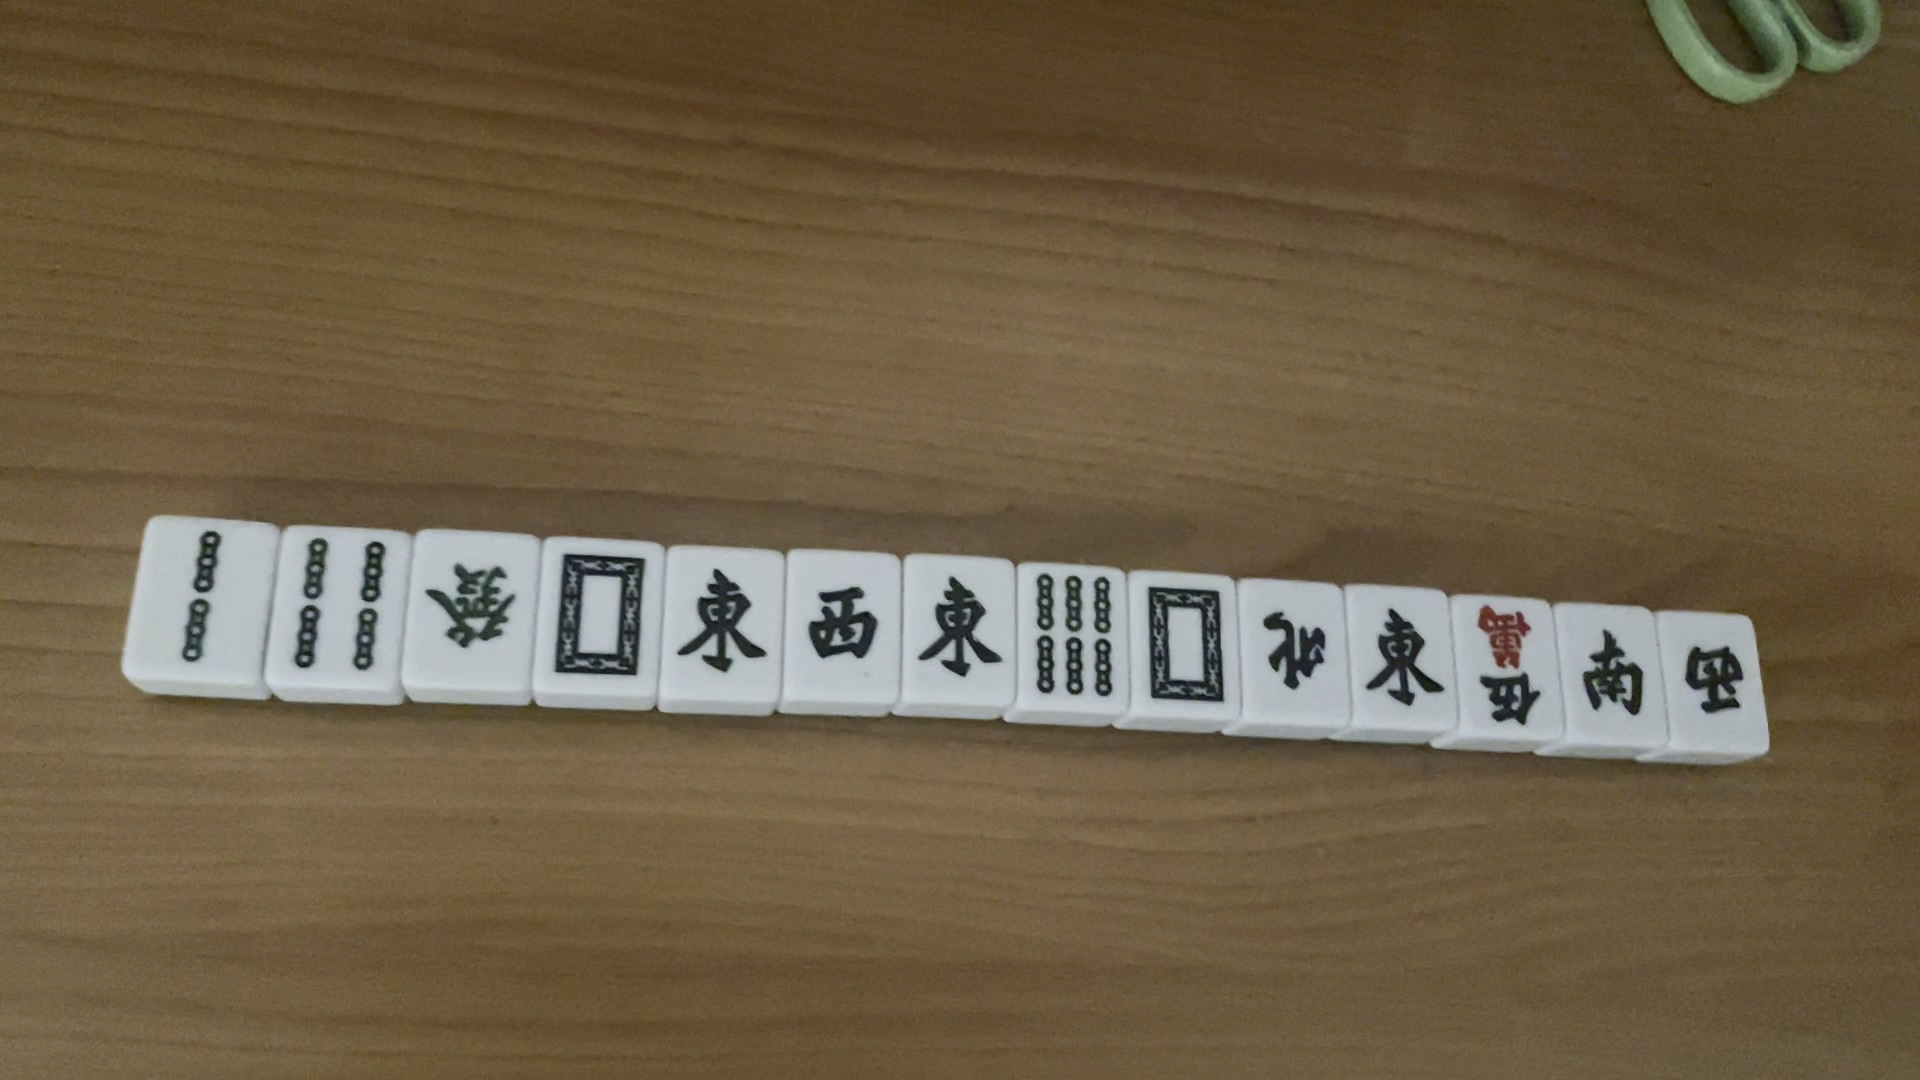b-2: (164, 522, 243, 667)
b-4: (281, 537, 390, 673)
b-6: (1023, 572, 1120, 699)
c-5: (1460, 597, 1555, 733)
honors-east: (669, 559, 770, 688), (913, 568, 1004, 688), (1356, 603, 1452, 708)
honors-green: (422, 559, 522, 654)
honors-north: (1245, 604, 1341, 702)
honors-south: (1575, 628, 1647, 717)
honors-west: (1667, 628, 1759, 738), (796, 580, 881, 669)
honors-white: (547, 551, 647, 680), (1135, 578, 1228, 708)
